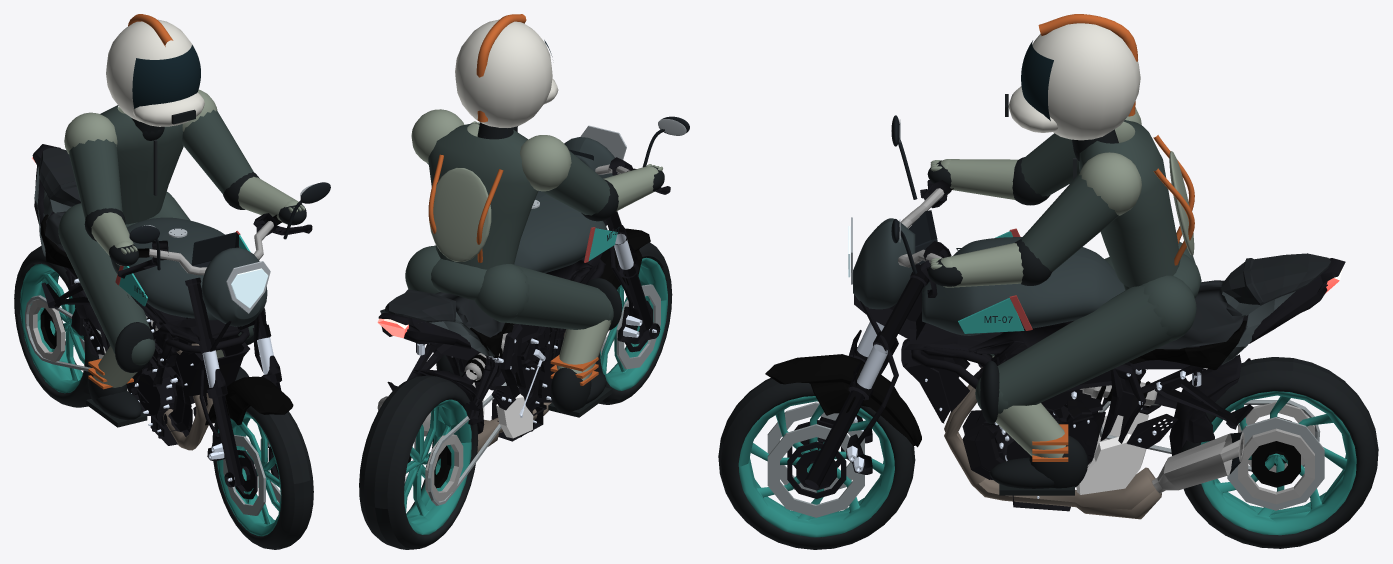
3 views of the same model, side by side, from view 1: azimuth 30°, elevation 25°; view 2: azimuth 150°, elevation 25°; view 3: azimuth 270°, elevation 25° (orthographic). The views are drawn at different scales.
Parts seen in each view (by area): view 1: Rider, BikeBody, WheelFront, WheelRear; view 2: Rider, BikeBody, WheelRear, WheelFront; view 3: BikeBody, Rider, WheelRear, WheelFront.
Boxes of the visible parts, <box> form: Rider: <box>58,14,306,427</box>; BikeBody: <box>25,144,330,487</box>; WheelFront: <box>212,406,313,549</box>; WheelRear: <box>14,246,98,407</box>; Rider: <box>405,14,664,417</box>; BikeBody: <box>377,116,689,505</box>; WheelRear: <box>359,375,478,549</box>; WheelFront: <box>594,242,672,404</box>; BikeBody: <box>765,115,1345,519</box>; Rider: <box>927,14,1201,495</box>; WheelRear: <box>1180,357,1378,548</box>; WheelFront: <box>718,378,915,549</box>.
Bounding box in the file's own units: 0.8477 × 1.79 × 2.01.
